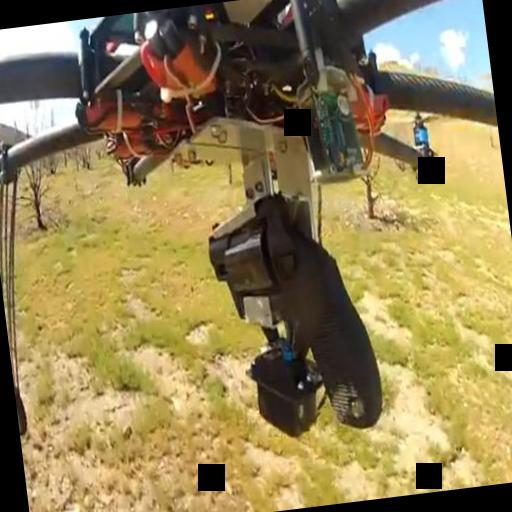Handgun: (206, 202, 388, 453)
